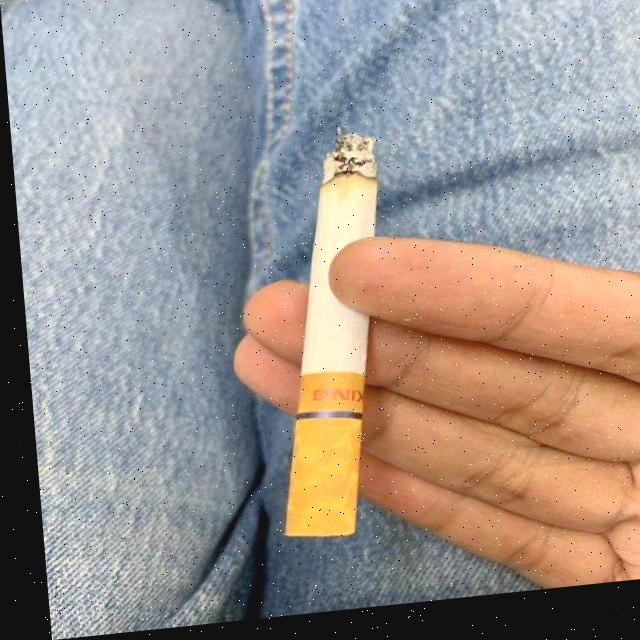cigarette: (252, 137, 399, 548)
